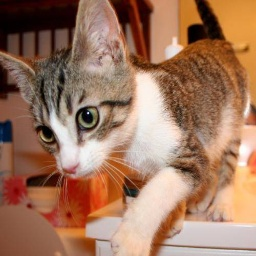cat: (4, 4, 249, 256)
